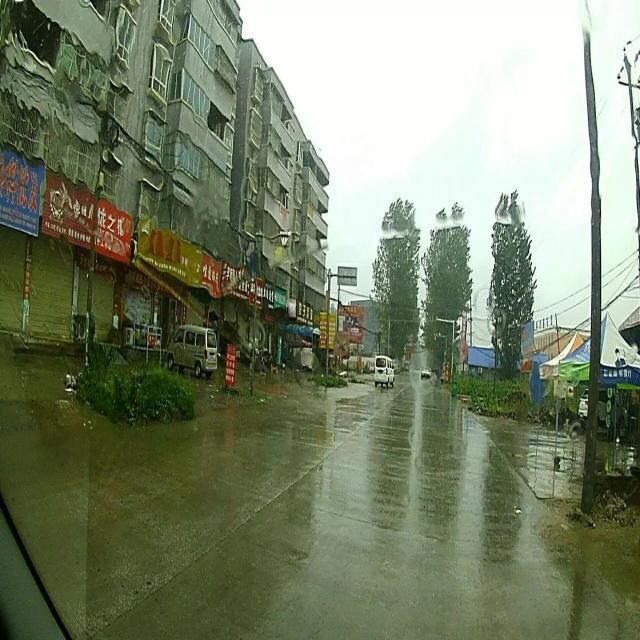car: (166, 324, 217, 377), (373, 352, 396, 389), (420, 366, 430, 382)
